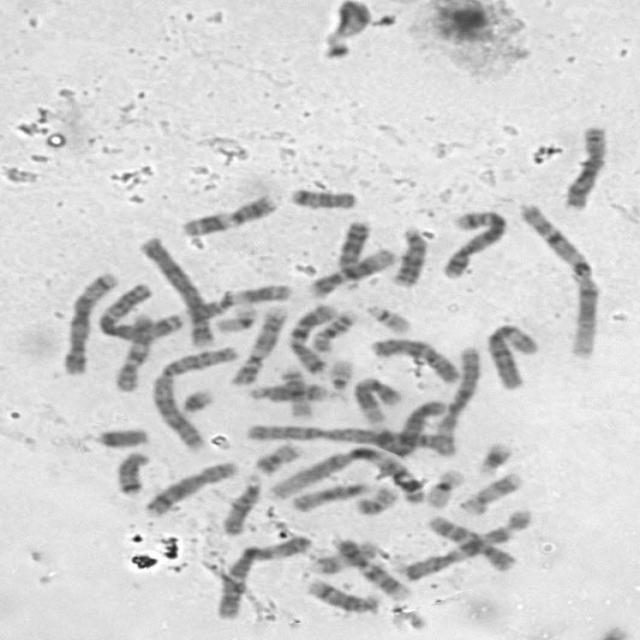A1: (514, 198, 603, 359), (262, 444, 426, 506)
A2: (149, 341, 242, 452), (242, 419, 456, 456)
A3: (210, 531, 314, 621), (92, 277, 188, 343)
B4: (134, 232, 218, 348), (370, 395, 445, 459)
B5: (58, 267, 121, 376), (437, 204, 512, 281)
C10: (423, 510, 520, 573), (109, 309, 156, 393)
C11: (175, 190, 281, 238), (179, 280, 294, 322)
C12: (305, 245, 399, 299), (348, 373, 402, 425)
C6: (429, 342, 484, 457), (480, 319, 544, 390)
C7: (416, 509, 524, 575), (284, 299, 338, 376)
C8: (139, 457, 240, 518), (558, 120, 612, 212)
C9: (328, 534, 414, 601), (224, 301, 290, 387)
D13: (334, 216, 372, 291), (386, 221, 428, 288)
D14: (300, 574, 382, 616), (243, 380, 330, 403)
D15: (287, 477, 375, 514), (218, 470, 264, 538)
E16: (308, 306, 360, 353), (276, 363, 315, 420)
E17: (454, 468, 525, 516), (305, 538, 381, 576)
E18: (110, 446, 154, 497), (286, 184, 360, 212)
F19: (420, 464, 467, 509), (212, 301, 260, 334)
F20: (249, 438, 305, 476), (349, 481, 401, 517)
G21: (472, 436, 515, 476), (175, 384, 216, 415)
G22: (360, 300, 414, 335), (323, 354, 357, 393)
X: (365, 332, 464, 385)
Y: (92, 423, 152, 449)
